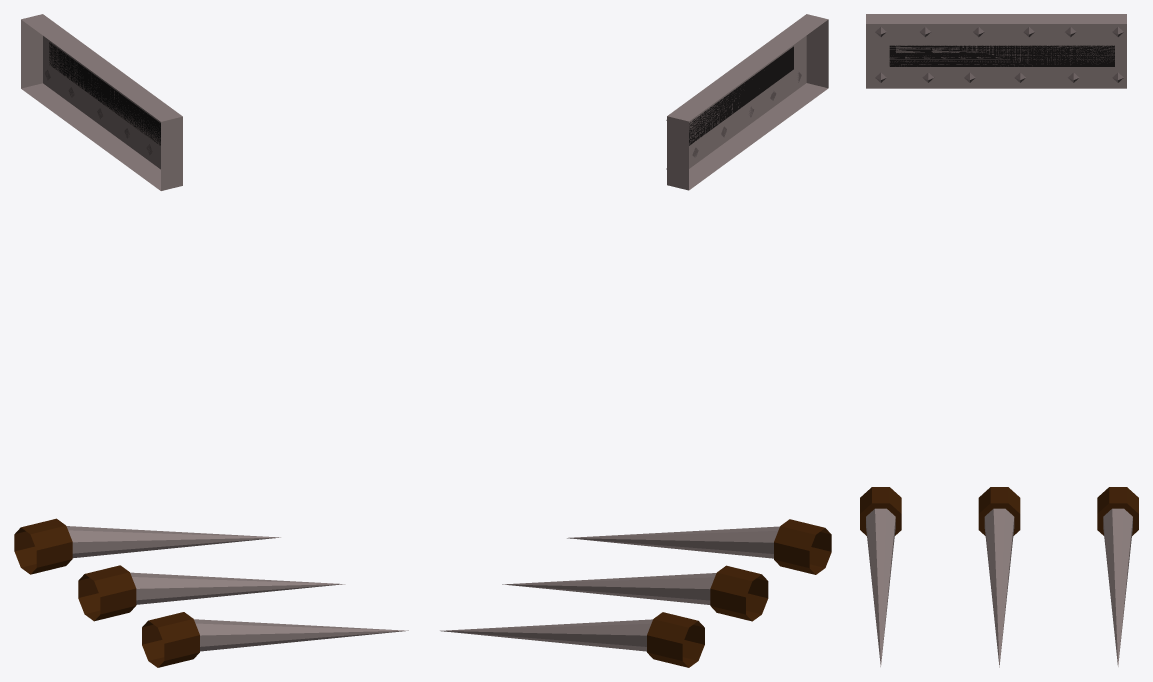
File: model_loc_833_q.obj
The picture shows the model from 3 angles, left to right: view 1: azimuth 30°, elevation 25°; view 2: azimuth 150°, elevation 25°; view 3: azimuth 270°, elevation 25°; orthographic projection. The views are drawn at different scales.
Parts seen in each view (by area): view 1: 2120; view 2: 2120; view 3: 2120.
Part boxes in pixels (x1=…): 2120: x1=14, y1=14, x2=408, y2=667; 2120: x1=440, y1=14, x2=831, y2=667; 2120: x1=860, y1=14, x2=1138, y2=667.
Bounding box in the file's own units: 93 × 200 × 94.
